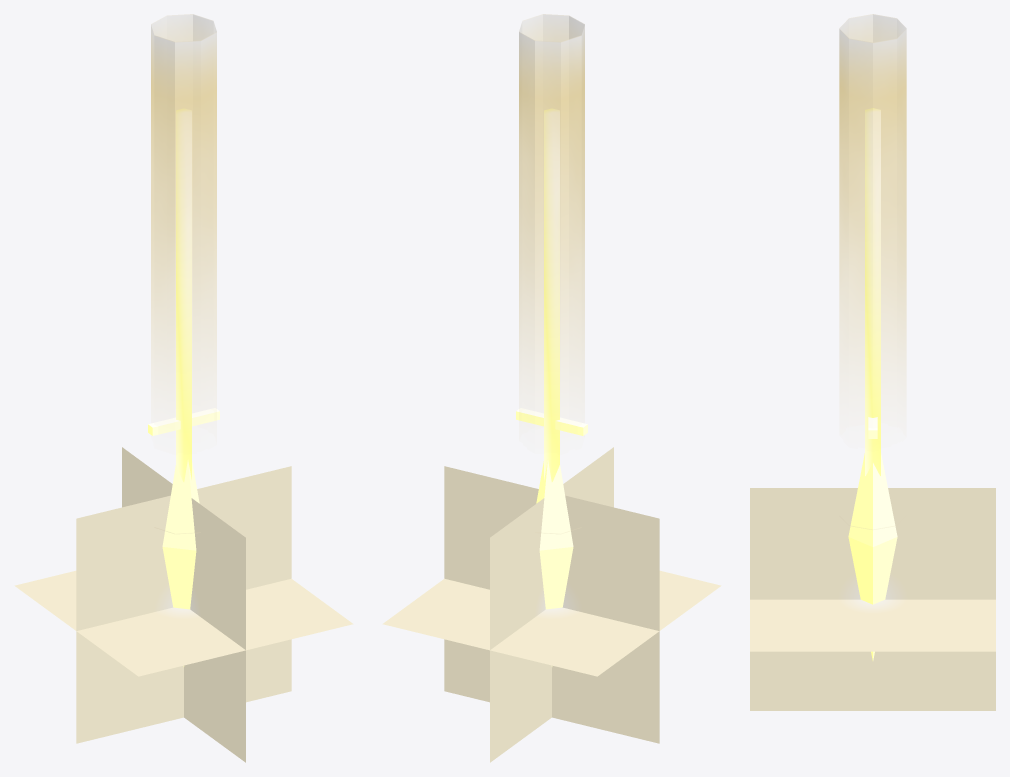
File: fx_rain_spear.glb
3 views of the same model, side by side, from view 1: azimuth 30°, elevation 25°; view 2: azimuth 150°, elevation 25°; view 3: azimuth 270°, elevation 25° (orthographic).
Visible parts, largest first — view 1: fx_spear_glow, fx_spear_trail, fx_gold; view 2: fx_spear_glow, fx_spear_trail, fx_gold; view 3: fx_spear_glow, fx_spear_trail, fx_gold.
Part boxes in pixels (box(x1,y1,x2,y2)): fx_spear_glow: box(14, 447, 353, 762); fx_spear_trail: box(151, 14, 216, 533); fx_gold: box(148, 108, 219, 666); fx_spear_glow: box(382, 447, 721, 762); fx_spear_trail: box(519, 14, 584, 533); fx_gold: box(516, 108, 587, 666); fx_spear_glow: box(750, 488, 995, 710); fx_spear_trail: box(839, 14, 906, 529); fx_gold: box(848, 108, 897, 660).
Bounding box in the file's own units: 1.6 × 4.9 × 1.6.
3 materials, 2 textured.
